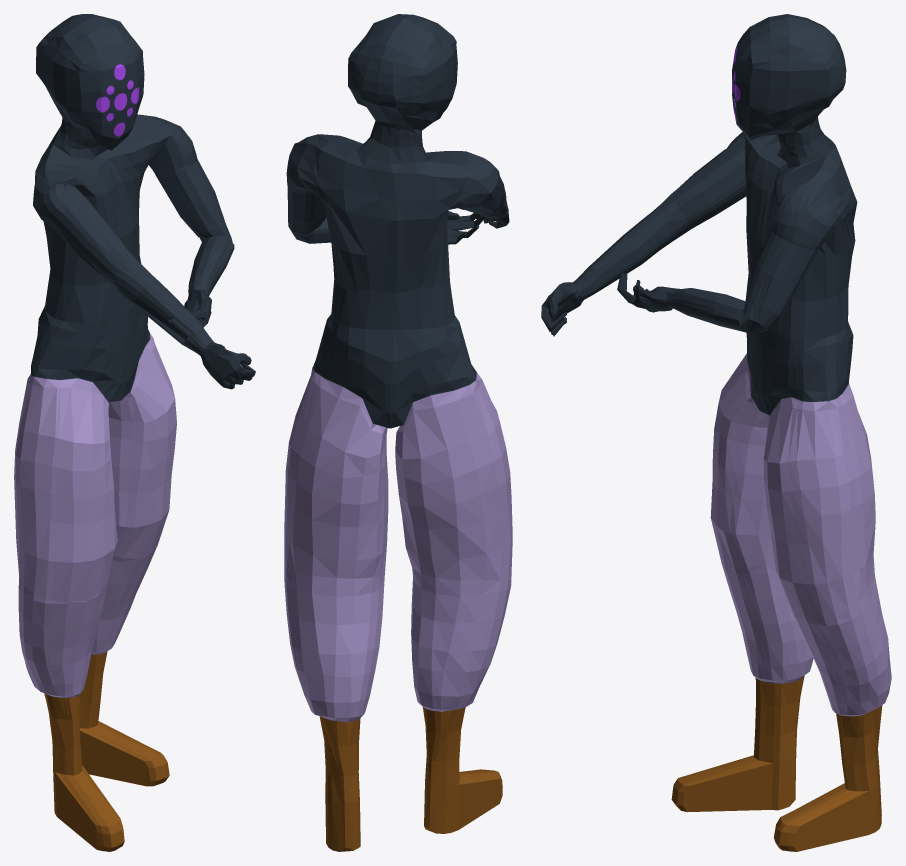
The model's file is Oracle_Attack_000005.obj.
The picture shows the model from 3 angles, left to right: view 1: azimuth 30°, elevation 25°; view 2: azimuth 150°, elevation 25°; view 3: azimuth 270°, elevation 25°; orthographic projection. The views are drawn at different scales.
Visible parts, largest first — view 1: Cube; view 2: Cube; view 3: Cube.
Part boxes in pixels (x1,y1,x2,y2): Cube: [14, 14, 255, 851]; Cube: [284, 14, 512, 851]; Cube: [541, 14, 891, 851].
Bounding box in the file's own units: 1.09 × 3.94 × 1.55.
